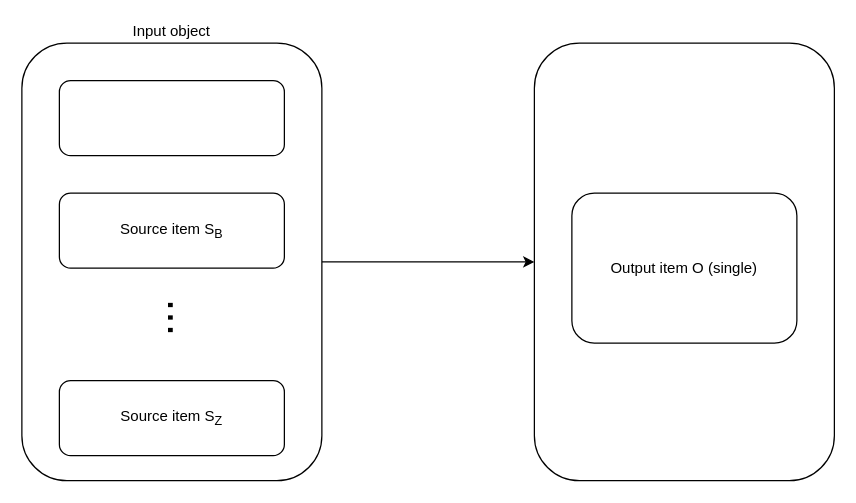
The diagram is 856 pixels wide and 503 high, and some of its shapes have lost their labels. Each missing label, with the box of its shape:
Output object: (533, 42, 834, 481)
Source item S A: (58, 79, 284, 156)
